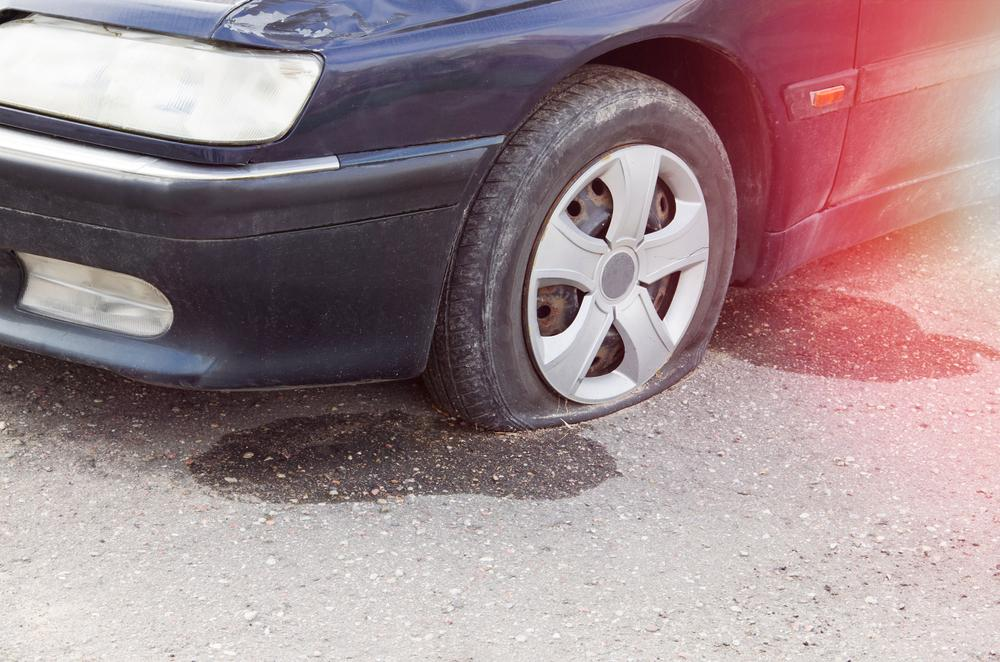scratch: (222, 0, 418, 43)
tire flat: (420, 66, 740, 431)
